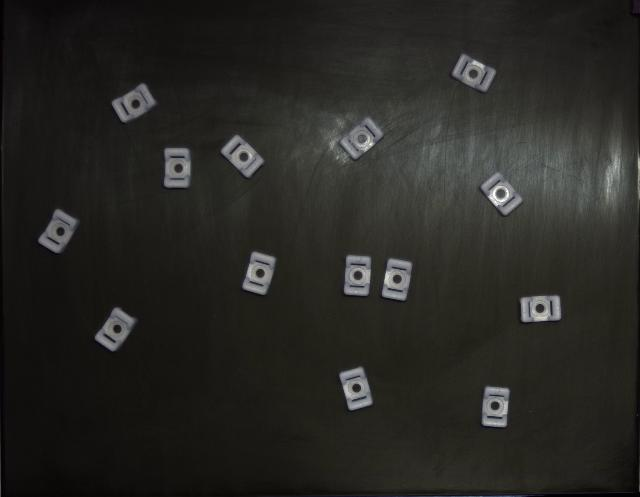first_side: (221, 135, 265, 179), (95, 308, 138, 352), (340, 118, 384, 160), (480, 172, 522, 216), (39, 210, 80, 254), (112, 84, 158, 122), (451, 54, 496, 92), (242, 253, 276, 295), (340, 368, 372, 411), (381, 259, 412, 301), (481, 386, 510, 429), (520, 296, 561, 324), (344, 255, 371, 296), (164, 149, 191, 189)
